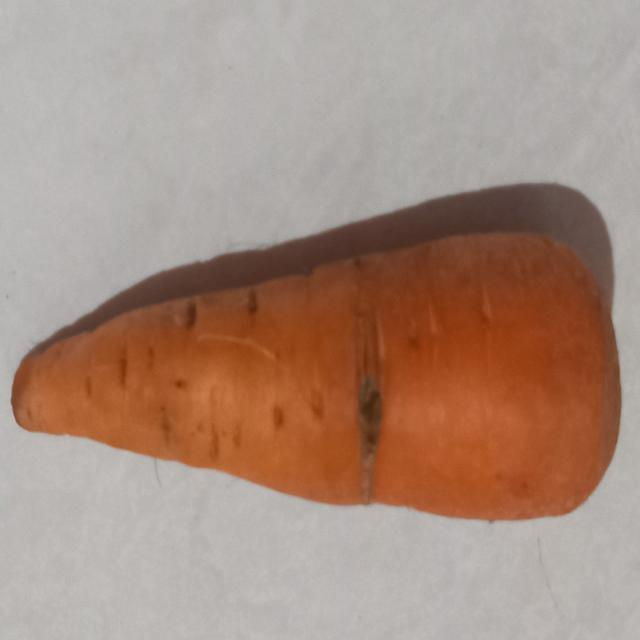carrot: (12, 233, 620, 520)
